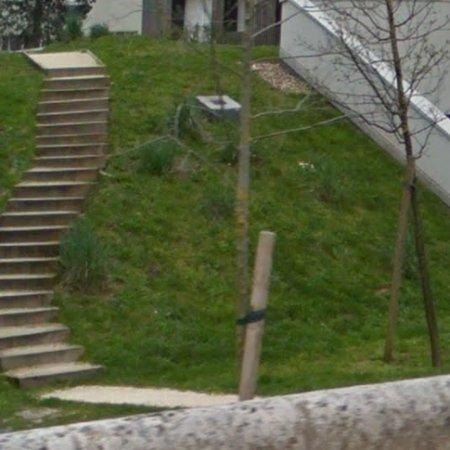stairs: (0, 52, 109, 387)
